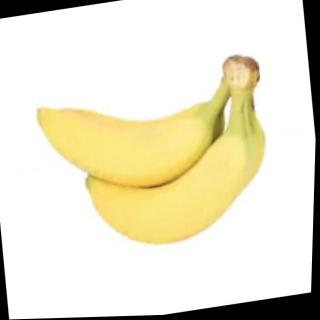banana: (77, 123, 279, 257), (31, 79, 235, 205)
